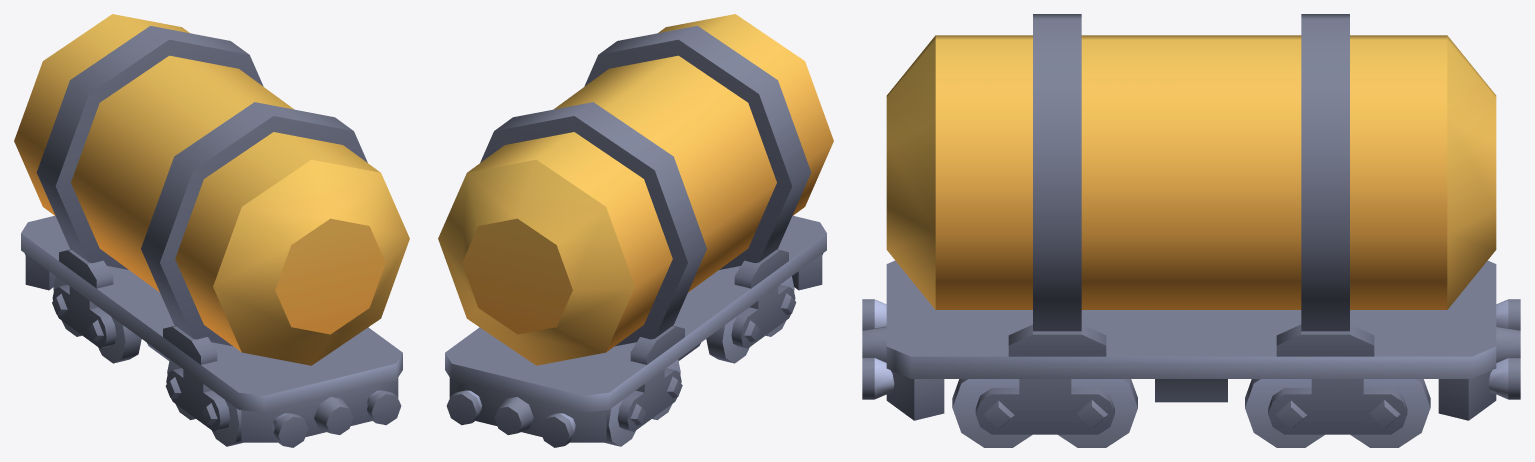
File: kenney-train-train-carriage-tank-large.glb
3 renders of one model, left to right at view 1: azimuth 30°, elevation 25°; view 2: azimuth 150°, elevation 25°; view 3: azimuth 270°, elevation 25°, orthographic. The views are drawn at different scales.
Parts seen in each view (by area): view 1: train-carriage-tank-large; view 2: train-carriage-tank-large; view 3: train-carriage-tank-large.
Boxes of the visible parts, x1,y1,x2,y2 form: train-carriage-tank-large: [14, 14, 409, 447]; train-carriage-tank-large: [438, 14, 833, 447]; train-carriage-tank-large: [862, 14, 1520, 447].
Size of the model in its own units: 1.39 by 1.75 by 2.7.
Materials: 1 (1 with a texture image).
